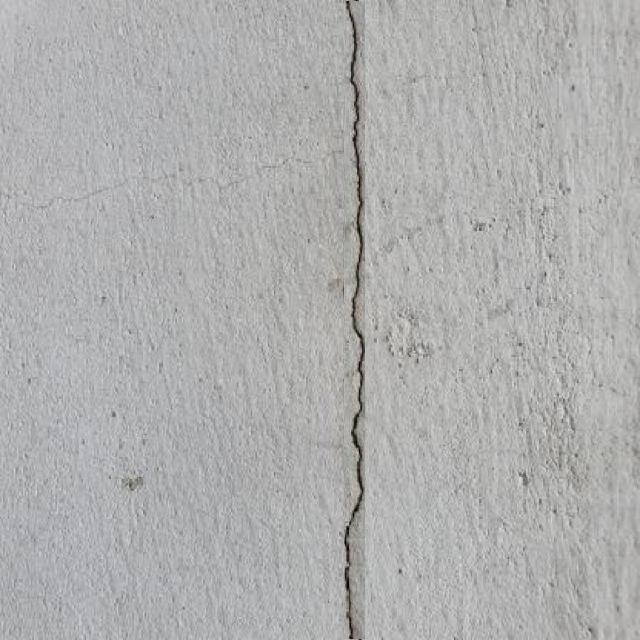Crack: (340, 0, 368, 639)
